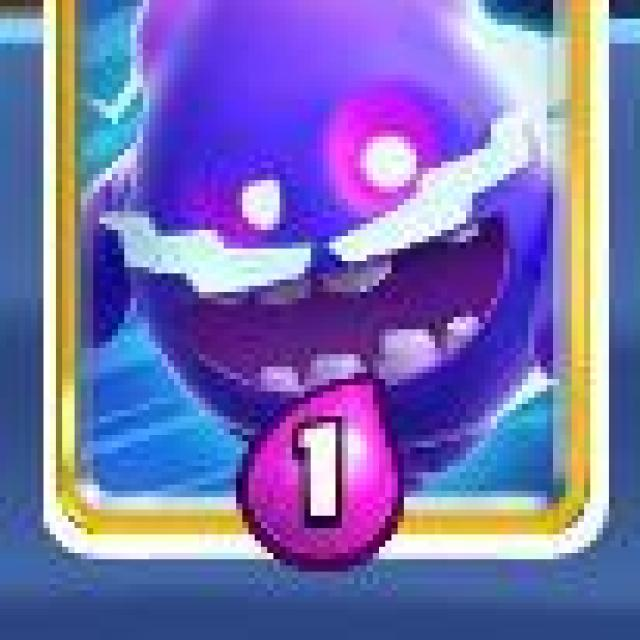Electro_Spirit: (40, 0, 616, 564)
